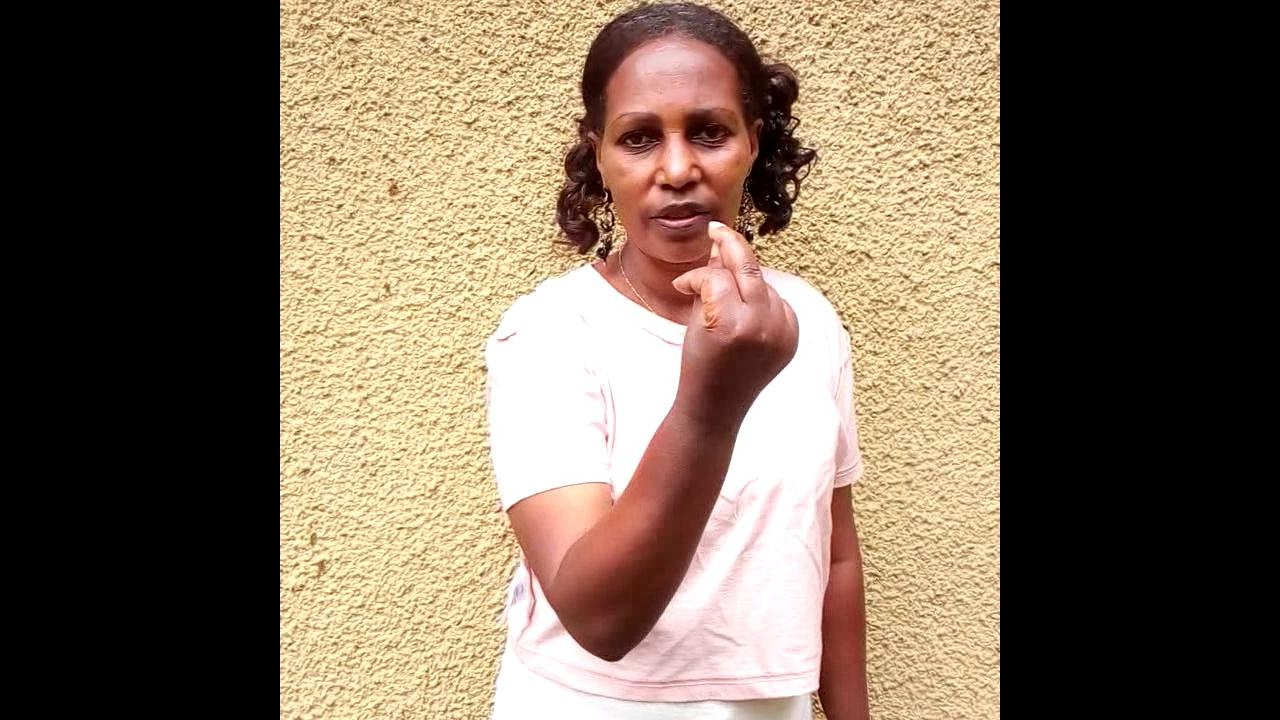CHE: (668, 217, 801, 504)
